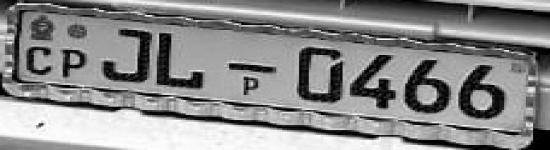-: (224, 57, 279, 77)
0: (292, 43, 348, 107)
4: (347, 47, 402, 112)
6: (456, 60, 513, 124), (402, 56, 456, 117)
C: (24, 44, 54, 76)
J: (103, 23, 154, 87)
L: (157, 29, 216, 92)
P: (58, 46, 89, 79)
